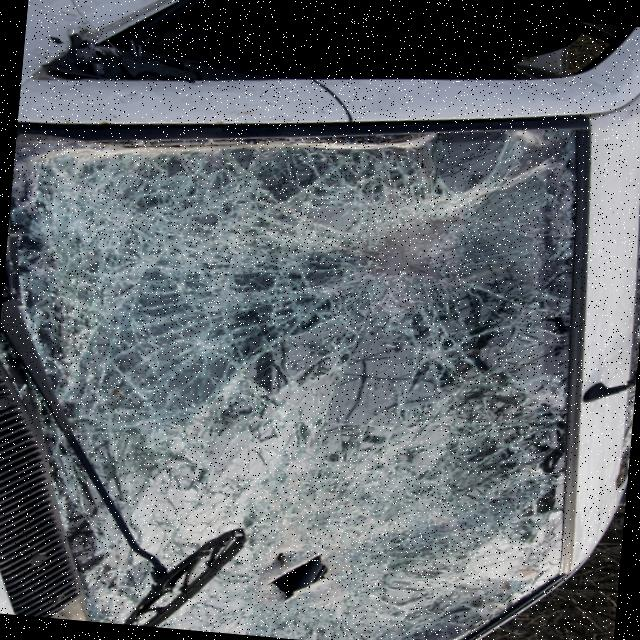Windshield: (0, 118, 622, 626), (104, 572, 363, 640)
